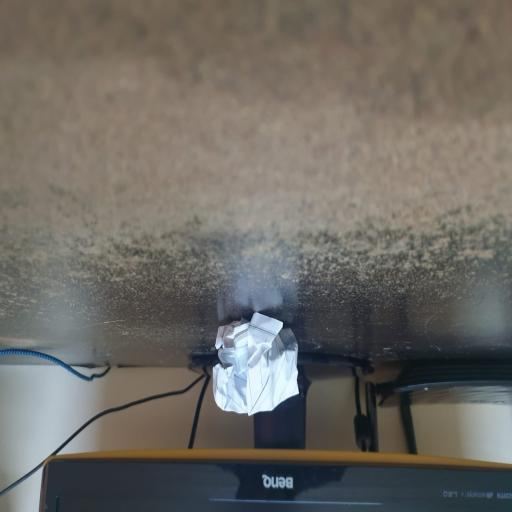Kertas: (213, 318, 295, 412)
